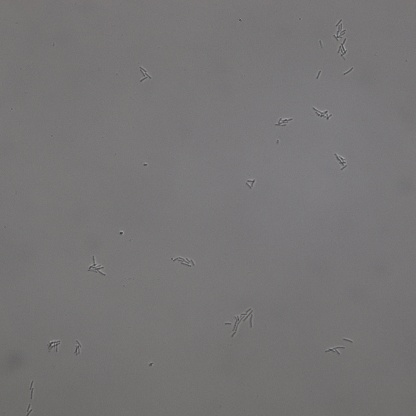R(colony): (225, 308, 253, 338), (87, 256, 105, 276), (170, 256, 195, 269), (333, 19, 346, 40), (313, 108, 333, 120), (335, 155, 348, 171), (140, 67, 153, 83), (337, 42, 348, 60), (326, 346, 345, 356), (275, 116, 292, 127), (47, 340, 60, 354), (72, 340, 83, 355)
